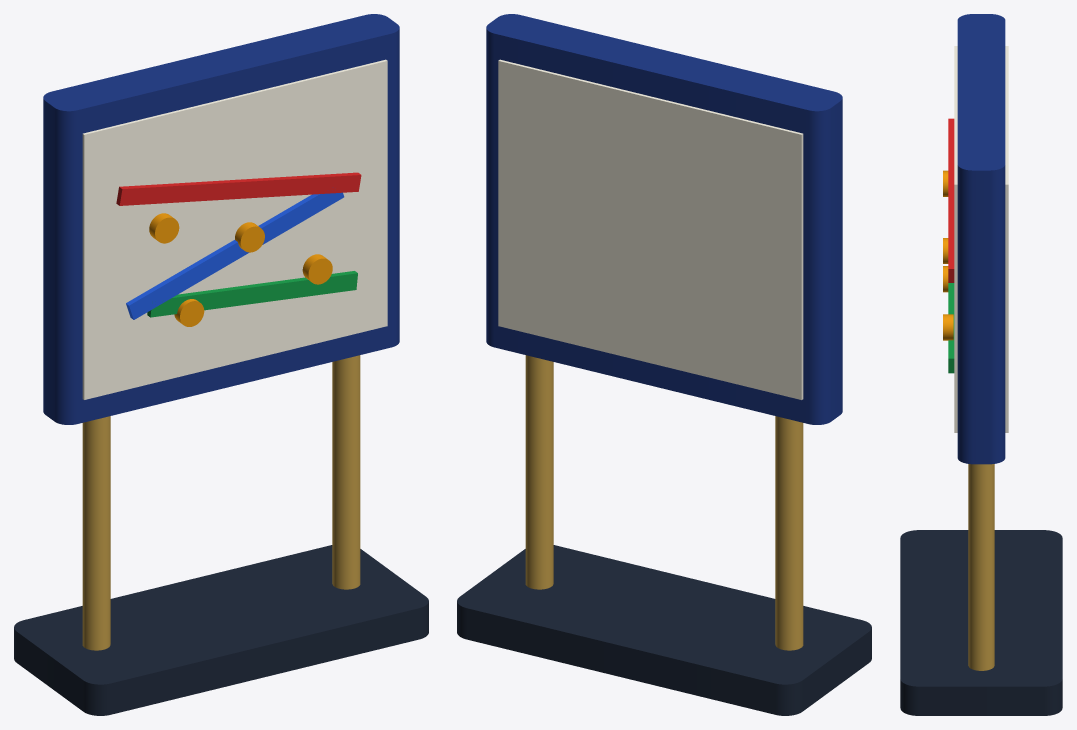
File: map_stand.glb
3 views of the same model, side by side, from view 1: azimuth 30°, elevation 25°; view 2: azimuth 150°, elevation 25°; view 3: azimuth 270°, elevation 25° (orthographic). The views are drawn at different scales.
Parts seen in each view (by area): view 1: map_paper, map_frame, map_base, mpost_L, mpost_R, line_red, line_blue, line_green, st_dot_2, st_dot_0, st_dot_1; view 2: map_paper, map_frame, map_base, mpost_L, mpost_R; view 3: map_base, map_frame, mpost_R, map_paper, line_red, line_green, st_dot_2.
Part boxes in pixels (<box>): map_paper: <box>82,59,387,399</box>; map_frame: <box>43,14,399,424</box>; map_base: <box>14,545,428,715</box>; mpost_L: <box>82,416,110,650</box>; mpost_R: <box>332,355,360,589</box>; line_red: <box>116,172,361,205</box>; line_blue: <box>126,192,344,319</box>; line_green: <box>147,271,357,317</box>; st_dot_2: <box>302,254,332,284</box>; st_dot_0: <box>149,213,179,243</box>; st_dot_1: <box>235,222,264,252</box>; map_paper: <box>498,59,803,399</box>; map_frame: <box>486,14,842,424</box>; map_base: <box>457,545,871,715</box>; mpost_L: <box>775,416,803,650</box>; mpost_R: <box>525,355,553,589</box>; map_base: <box>900,530,1062,715</box>; map_frame: <box>957,14,1005,464</box>; mpost_R: <box>968,464,994,670</box>; map_paper: <box>954,46,1008,432</box>; line_red: <box>948,118,954,282</box>; line_green: <box>948,283,954,373</box>; st_dot_2: <box>943,314,953,340</box>.
Bounding box in the file's own units: 0.48 × 0.78 × 0.21.
